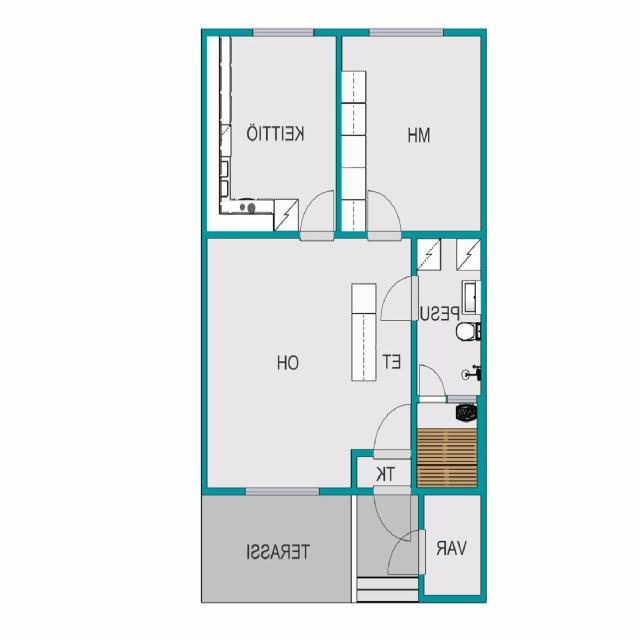door: (373, 401, 410, 457), (374, 488, 409, 542), (378, 275, 417, 321), (386, 530, 424, 575), (300, 188, 334, 238), (368, 188, 401, 238), (419, 360, 446, 402)
